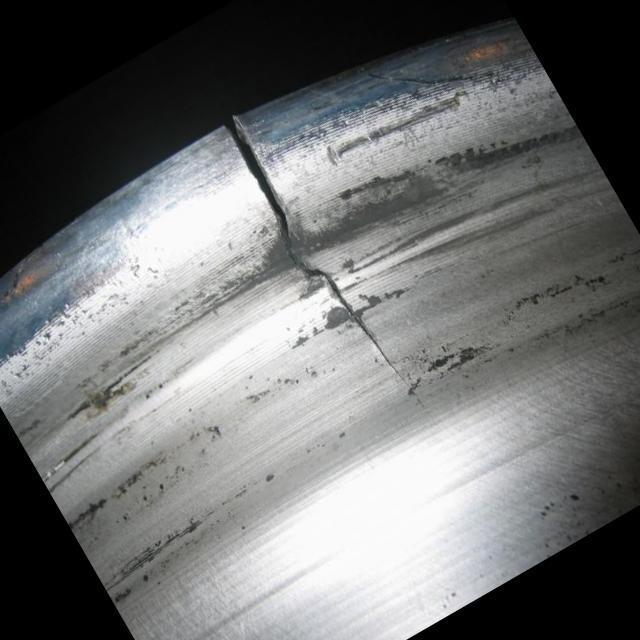defect: (221, 111, 444, 433)
